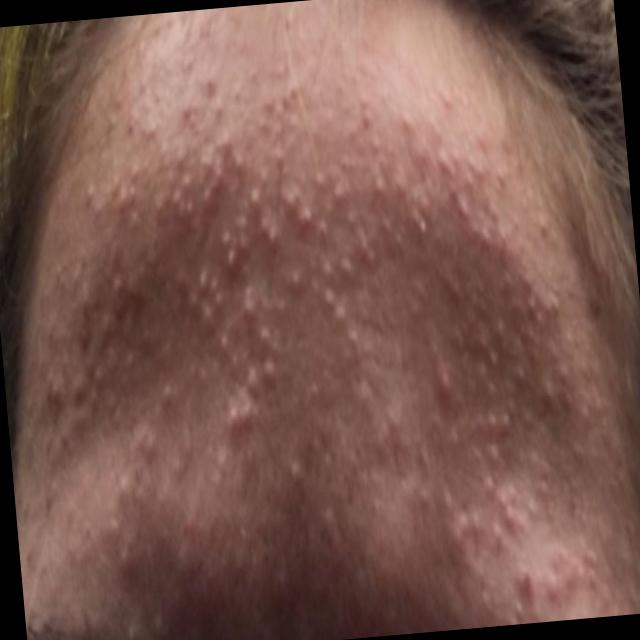fungal: (150, 22, 597, 640), (31, 217, 272, 572)
